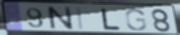8: (151, 8, 172, 33)
9: (25, 7, 45, 29)
G: (124, 8, 148, 32)
I: (76, 6, 86, 31)
L: (100, 8, 122, 31)
N: (45, 6, 75, 31)
